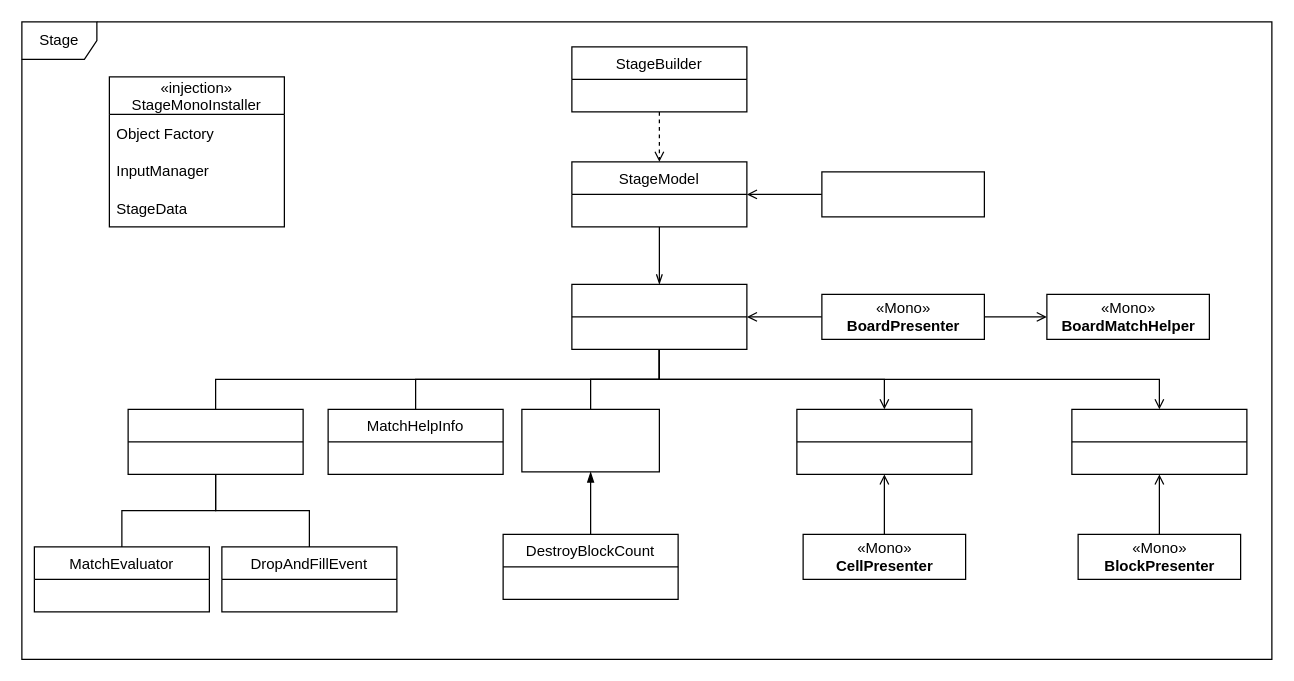
Image size: 1294x681. Some labels were removed from this diagram. The centre of each missing label's shape, as x and y in pixels:
BlockModel: (1159,441)
BoardActManager: (215,441)
BoardModel: (659,316)
CellModel: (884,441)
«abstract» BoardQuest: (590,440)
«Mono» StagePresenter: (902,194)
